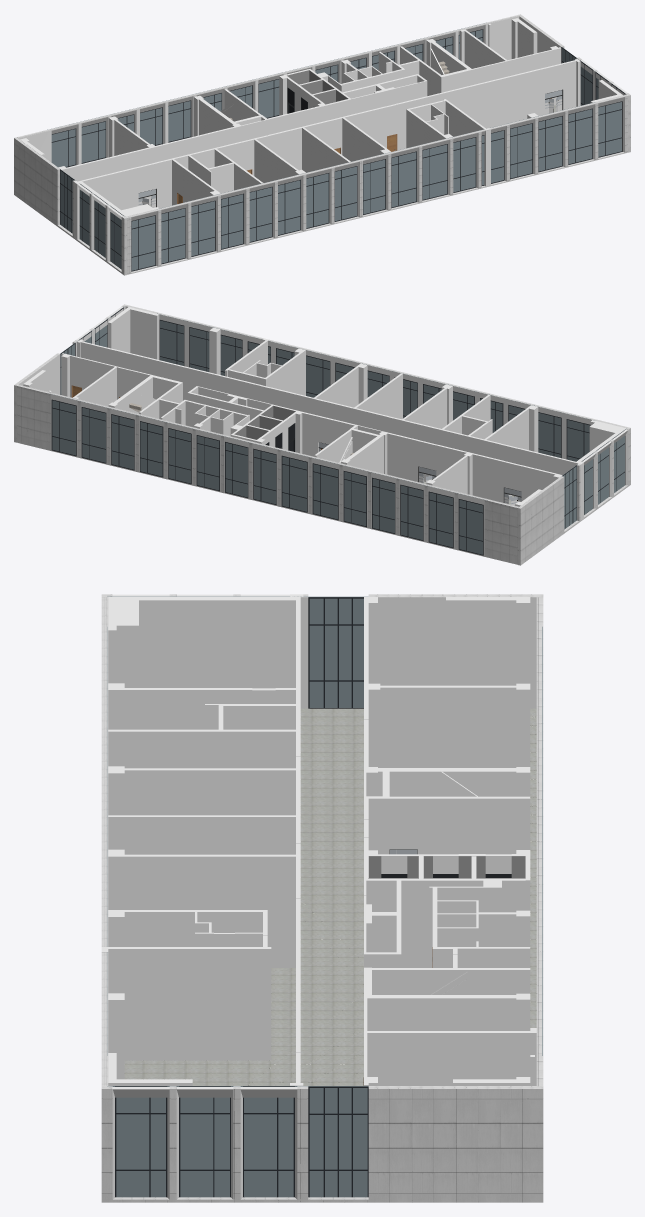
The picture shows the model from 3 angles, top to bottom: view 1: azimuth 30°, elevation 25°; view 2: azimuth 150°, elevation 25°; view 3: azimuth 270°, elevation 25°; orthographic projection. The views are drawn at different scales.
Parts seen in each view (by area): view 1: Layer:0, Box738, Rectangle356, Box736, Box689, Line13731, Box739, 地形_M_玻璃_004, 对象002, Rectangle12671, 对象001, Box737 (+3 smaller); view 2: Layer:0, Box736, Box738, Rectangle12671, Box689, Line13731, Box739, Box690, Rectangle356, 对象004, 对象, Box693 (+3 smaller); view 3: Layer:0, Box582, Box688, Box737, Line13731, 对象003, Box739, Rectangle12671, Rectangle356, Box695, Rectangle254, Rectangle221 (+4 smaller).
Part boxes in pixels (<box>): Layer:0: <box>20,18,622,239</box>; Box738: <box>157,102,594,263</box>; Rectangle356: <box>126,94,627,274</box>; Box736: <box>47,22,486,167</box>; Box689: <box>14,137,127,275</box>; Line13731: <box>299,69,427,125</box>; Box739: <box>60,169,124,269</box>; 地形_M_玻璃_004: <box>131,102,621,270</box>; 对象002: <box>19,16,519,164</box>; Rectangle12671: <box>17,15,519,138</box>; 对象001: <box>490,18,515,60</box>; Box737: <box>562,47,626,105</box>; Layer:0: <box>23,307,626,520</box>; Box736: <box>50,393,487,554</box>; Box738: <box>157,313,594,461</box>; Rectangle12671: <box>17,384,518,564</box>; Box689: <box>517,427,630,565</box>; Line13731: <box>187,386,318,456</box>; Box739: <box>562,428,626,529</box>; Box690: <box>20,387,47,449</box>; Rectangle356: <box>126,305,627,428</box>; 对象004: <box>125,306,565,458</box>; 对象: <box>19,306,125,394</box>; Box693: <box>418,440,436,470</box>; Layer:0: <box>101,594,536,1085</box>; Box582: <box>124,708,536,1085</box>; Box688: <box>101,1086,543,1202</box>; Box737: <box>107,1086,368,1197</box>; Line13731: <box>364,837,525,967</box>; 对象003: <box>300,597,536,708</box>; Box739: <box>107,596,368,707</box>; Rectangle12671: <box>536,597,543,1086</box>; Rectangle356: <box>101,597,108,1085</box>; Box695: <box>389,796,417,849</box>; Rectangle254: <box>308,1086,368,1197</box>; Rectangle221: <box>112,1087,169,1199</box>.
Bounding box in the file's own units: 49.93 × 5.92 × 18.84.
19 materials, 6 textured.
